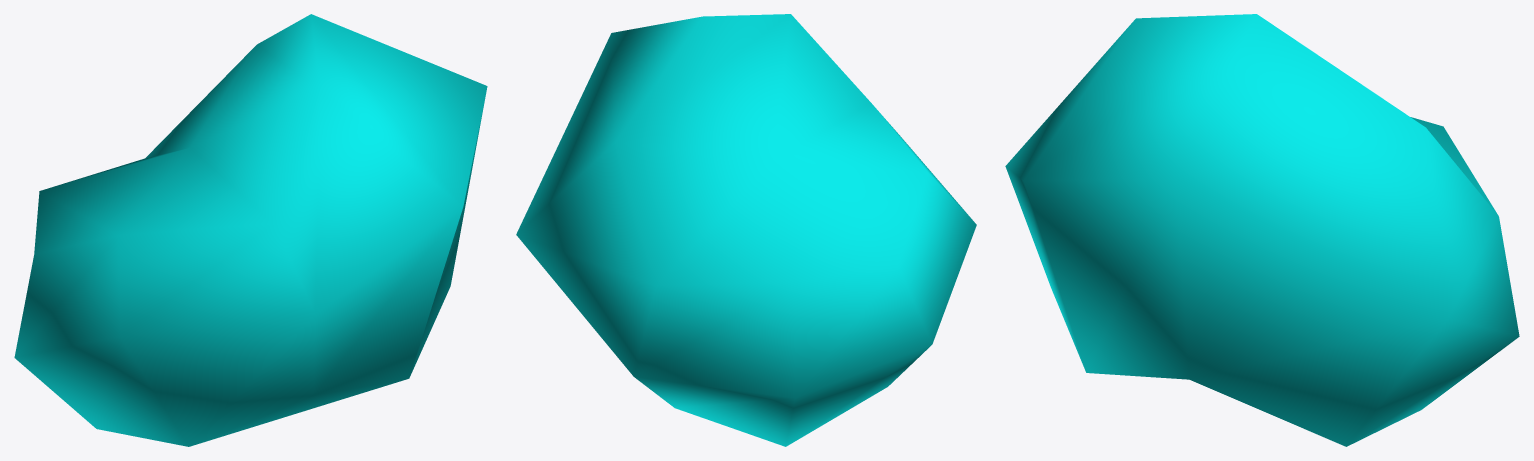
The model's file is Rock_Mesh.fbx.
3 renders of one model, left to right at view 1: azimuth 30°, elevation 25°; view 2: azimuth 150°, elevation 25°; view 3: azimuth 270°, elevation 25°, orthographic. The views are drawn at different scales.
Parts seen in each view (by area): view 1: Rock; view 2: Rock; view 3: Rock.
Part boxes in pixels (x1,y1,x2,y2): Rock: (14,14,487,446); Rock: (516,14,976,446); Rock: (1005,14,1519,446).
Bounding box in the file's own units: 1.72 × 1.64 × 1.66.
